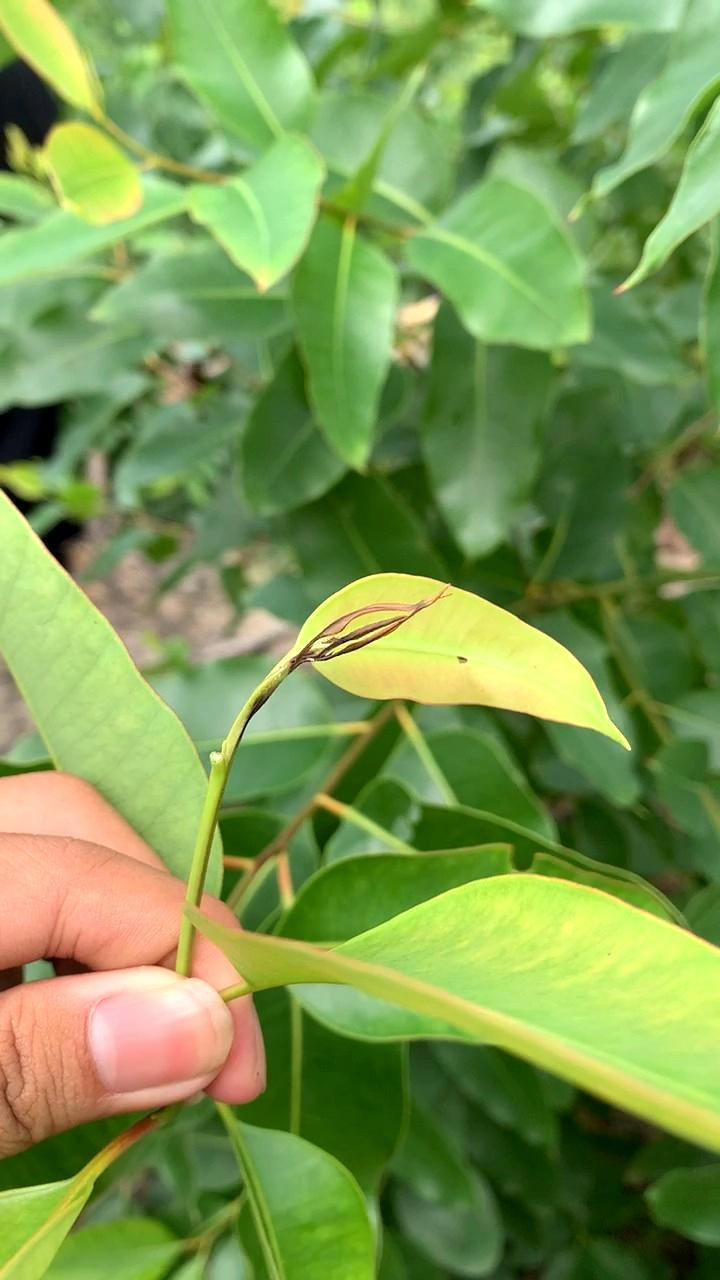Helopeltis-Withered Sprout: (301, 588, 453, 661)
